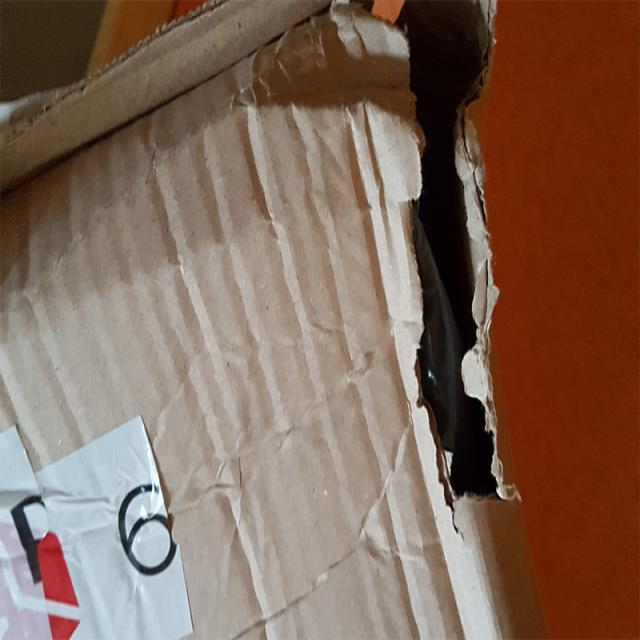damaged: (341, 21, 529, 539)
